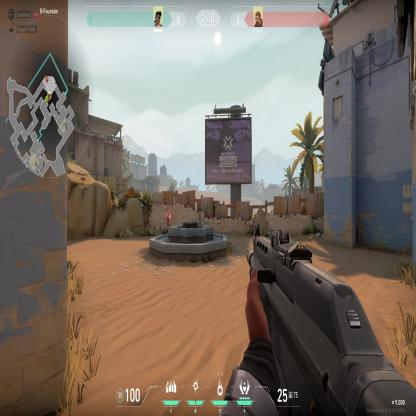enemy: (165, 210, 171, 230)
